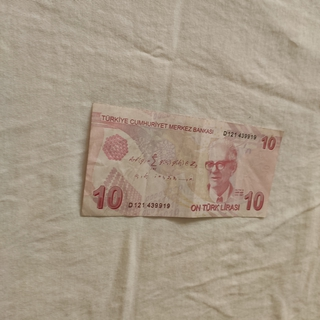10TLBack: (79, 100, 285, 219)
